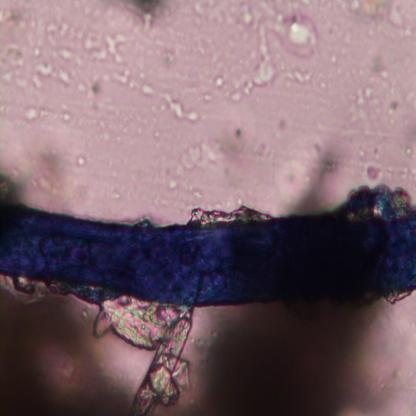Background material: (192, 300, 396, 414), (0, 286, 127, 413), (253, 16, 317, 92), (286, 135, 342, 216), (176, 137, 230, 189), (353, 52, 394, 118), (136, 82, 201, 122), (72, 23, 129, 66), (347, 1, 407, 36), (34, 146, 75, 196), (205, 70, 252, 107), (122, 1, 170, 35), (28, 60, 74, 89), (25, 106, 74, 122), (0, 46, 22, 80), (364, 161, 382, 185), (74, 148, 89, 168)
Cellulose filter fibre: (96, 301, 191, 412)
Cotton: (0, 187, 416, 306)
